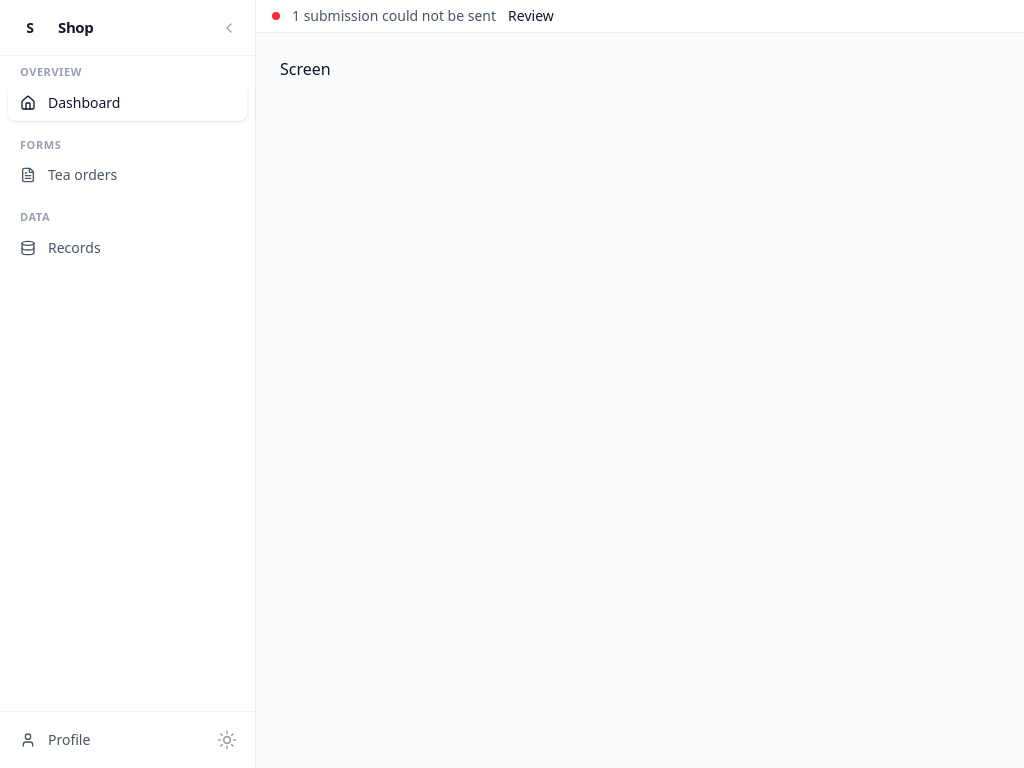
Scenario: the standard app shell with submissions on this device › counts the ones that could not be sent, each to send again or discard
The image size is (1024, 768).
Click the button "Review".
click(531, 16)  # box [508,6,554,26]
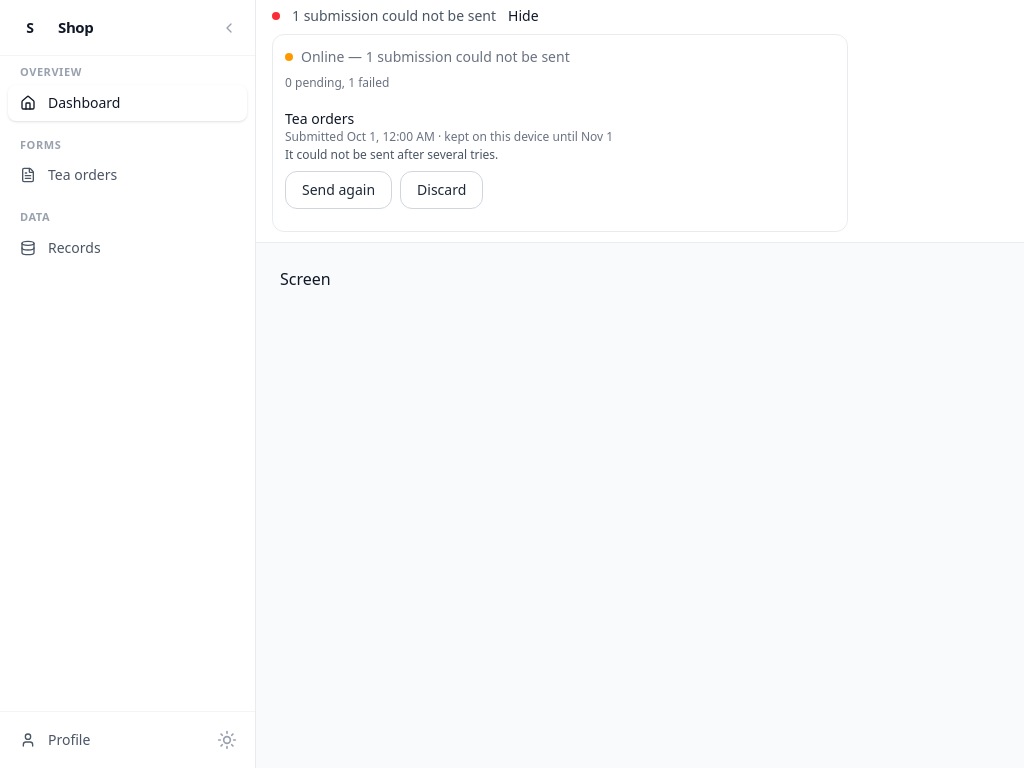
Expected: the list item shows "Tea orders", [285,109,354,128]
Expected: the button "Send again" is shown, [285,171,392,209]
Expected: the button "Discard" is shown, [400,171,483,209]
